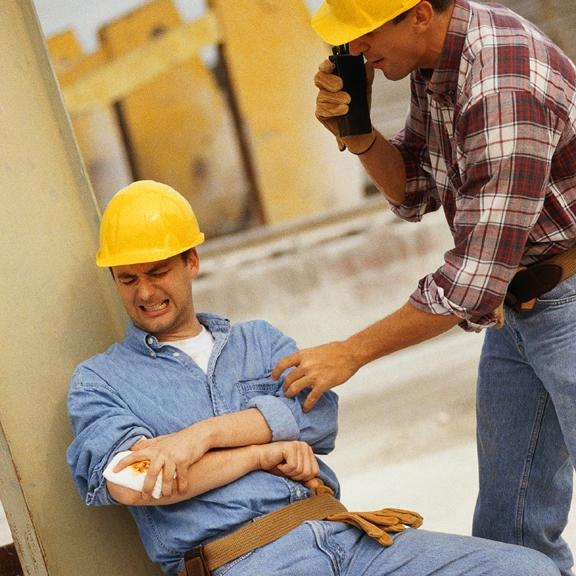helmet: (95, 180, 204, 267), (309, 0, 436, 52)
no_wear: (85, 322, 317, 560), (394, 78, 575, 320)
